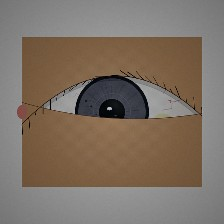pinguecula_lesion: (143, 105, 183, 137)
